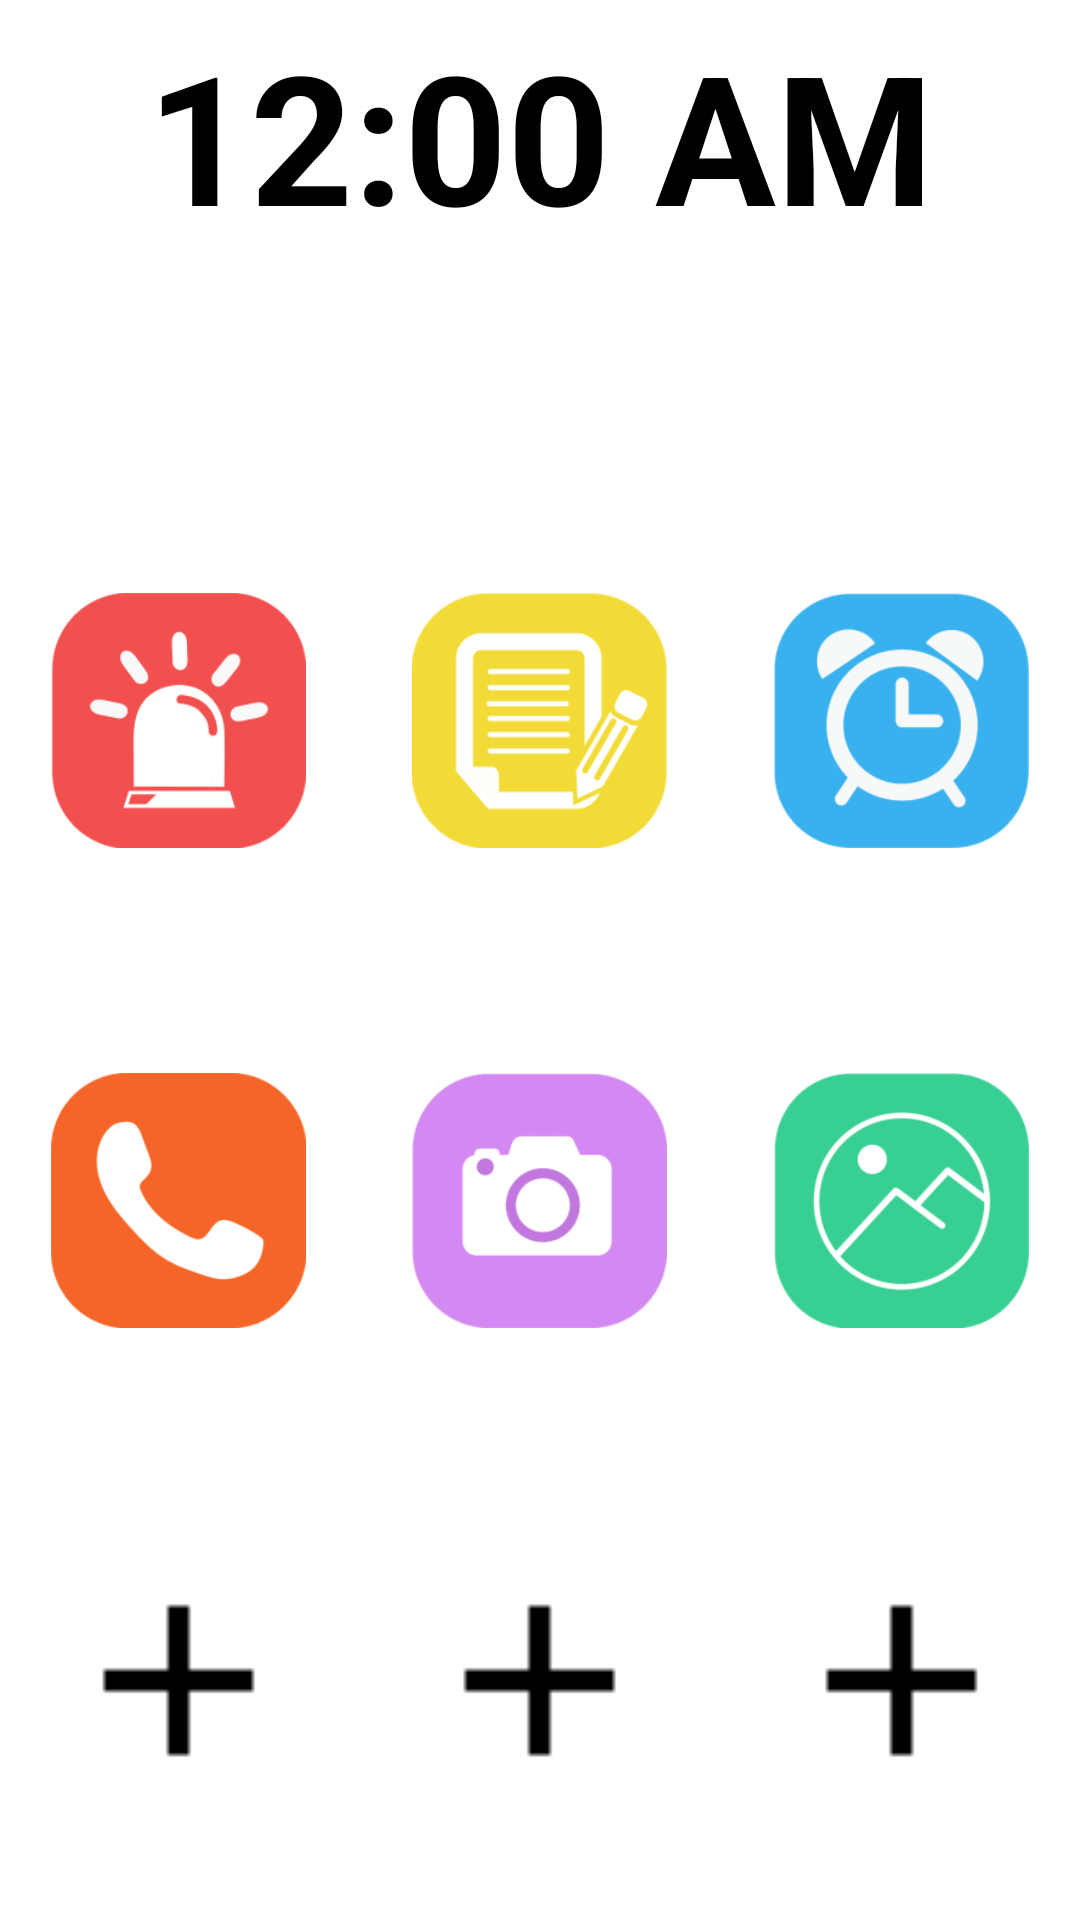

Screen size 1080*1920. Icon name, then its box in pixels as (x1, y1, x2, y2):
add: (102, 1604, 255, 1757), (463, 1604, 616, 1757), (825, 1604, 978, 1757)
alarmes: (774, 593, 1029, 848)
camera: (412, 1074, 667, 1328)
contatos: (51, 1073, 306, 1328)
galeria: (774, 1073, 1029, 1328)
notas: (412, 593, 667, 848)
sos: (52, 593, 306, 848)
